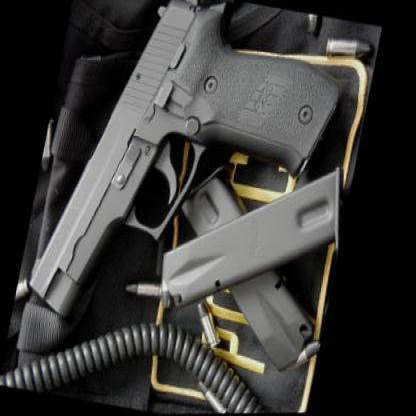pistol: (21, 0, 360, 367)
